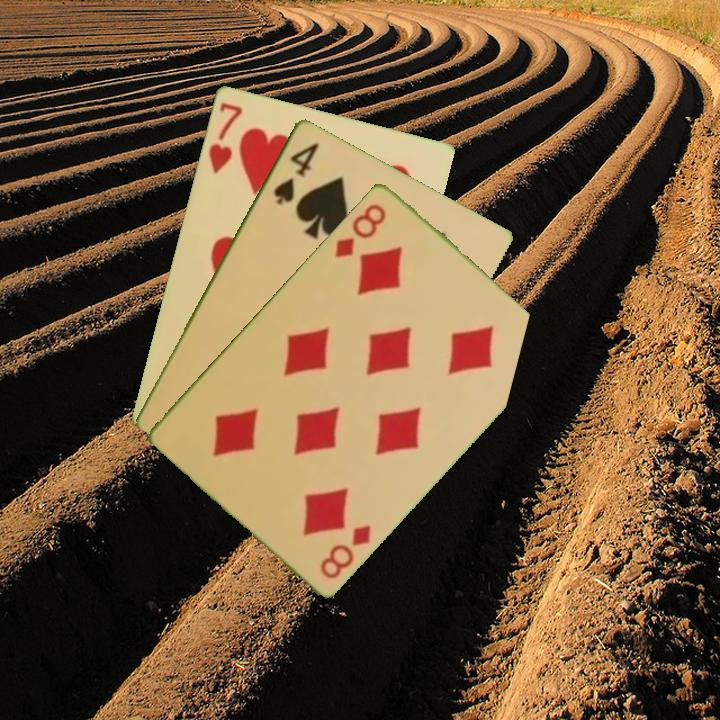4s: (270, 138, 322, 207)
7h: (204, 98, 245, 176)
8d: (316, 520, 375, 581), (331, 199, 389, 260)
